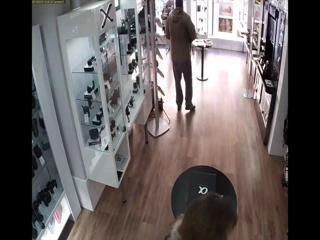Normal: (56, 0, 134, 196), (165, 0, 198, 114)
